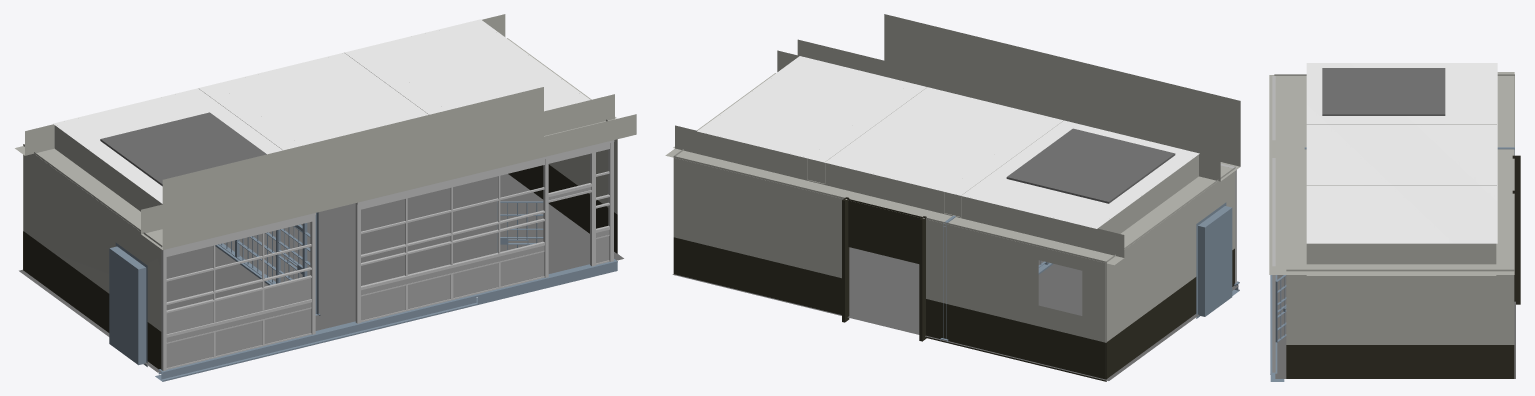
Rendered from SM_H_Building_Tide_Canteen_03J_ATLAS.fbx.
3 renders of one model, left to right at view 1: azimuth 30°, elevation 25°; view 2: azimuth 150°, elevation 25°; view 3: azimuth 270°, elevation 25°, orthographic. The views are drawn at different scales.
Visible parts, largest first — view 1: SM_H_Building_Tide_Canteen_03J_ATLAS; view 2: SM_H_Building_Tide_Canteen_03J_ATLAS; view 3: SM_H_Building_Tide_Canteen_03J_ATLAS.
Part boxes in pixels (x1=…): SM_H_Building_Tide_Canteen_03J_ATLAS: x1=15, y1=14, x2=636, y2=381; SM_H_Building_Tide_Canteen_03J_ATLAS: x1=665, y1=14, x2=1240, y2=381; SM_H_Building_Tide_Canteen_03J_ATLAS: x1=1269, y1=63, x2=1520, y2=381.
Size of the model in its own units: 1749 by 909 by 701.
